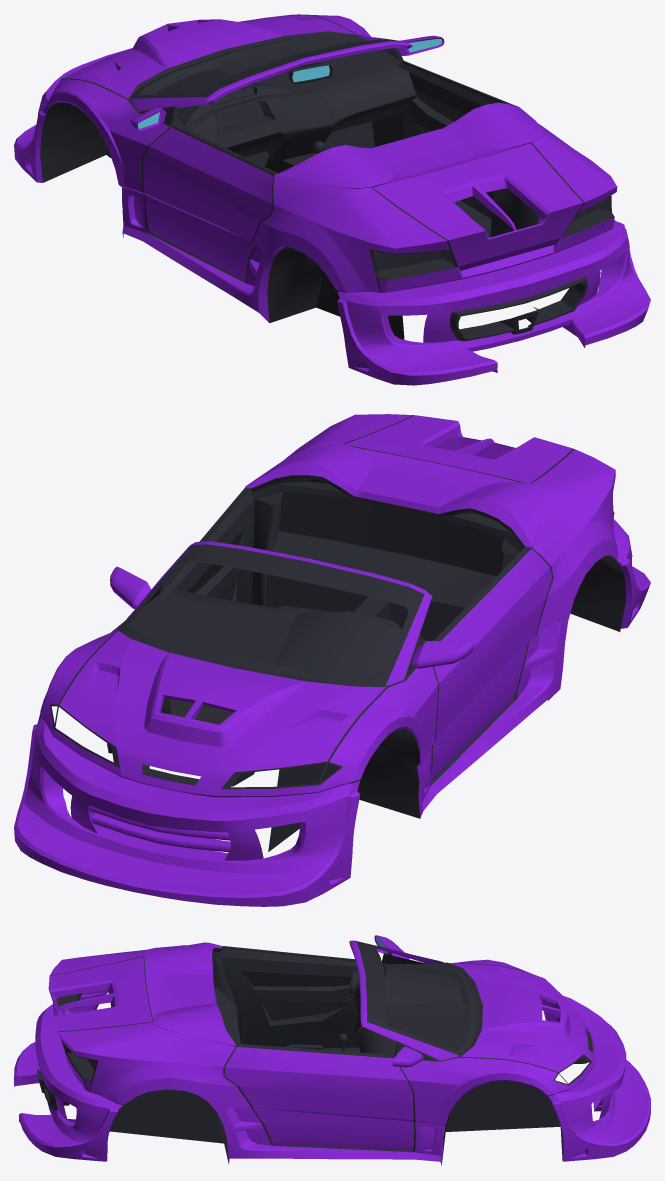
Rendered from Convertible.obj.
3 renders of one model, top to bottom at view 1: azimuth 30°, elevation 25°; view 2: azimuth 150°, elevation 25°; view 3: azimuth 270°, elevation 25°, orthographic. The views are drawn at different scales.
Visible parts, largest first — view 1: 007_exterior, 003_lados_interior, 002_cabina, 006_vidrio, 000_retrovisores; view 2: 007_exterior, 003_lados_interior, 002_cabina, 006_vidrio, 000_retrovisores; view 3: 007_exterior, 003_lados_interior, 002_cabina, 006_vidrio, 000_retrovisores, 004_retrovisor_interior.
Part boxes in pixels (x1,y1,x2,y2): 007_exterior: (14,14,650,385); 003_lados_interior: (40,14,615,341); 002_cabina: (138,34,416,173); 006_vidrio: (130,34,403,98); 000_retrovisores: (130,35,444,130); 007_exterior: (14,414,650,906); 003_lados_interior: (40,415,625,851); 002_cabina: (129,589,427,680); 006_vidrio: (50,544,424,789); 000_retrovisores: (110,566,474,668); 007_exterior: (14,940,650,1165); 003_lados_interior: (37,946,592,1164); 002_cabina: (283,963,469,1055); 006_vidrio: (356,941,591,1085); 000_retrovisores: (374,935,423,1067); 004_retrovisor_interior: (350,953,425,994).
Bounding box in the file's own units: 122 × 62.76 × 257.
